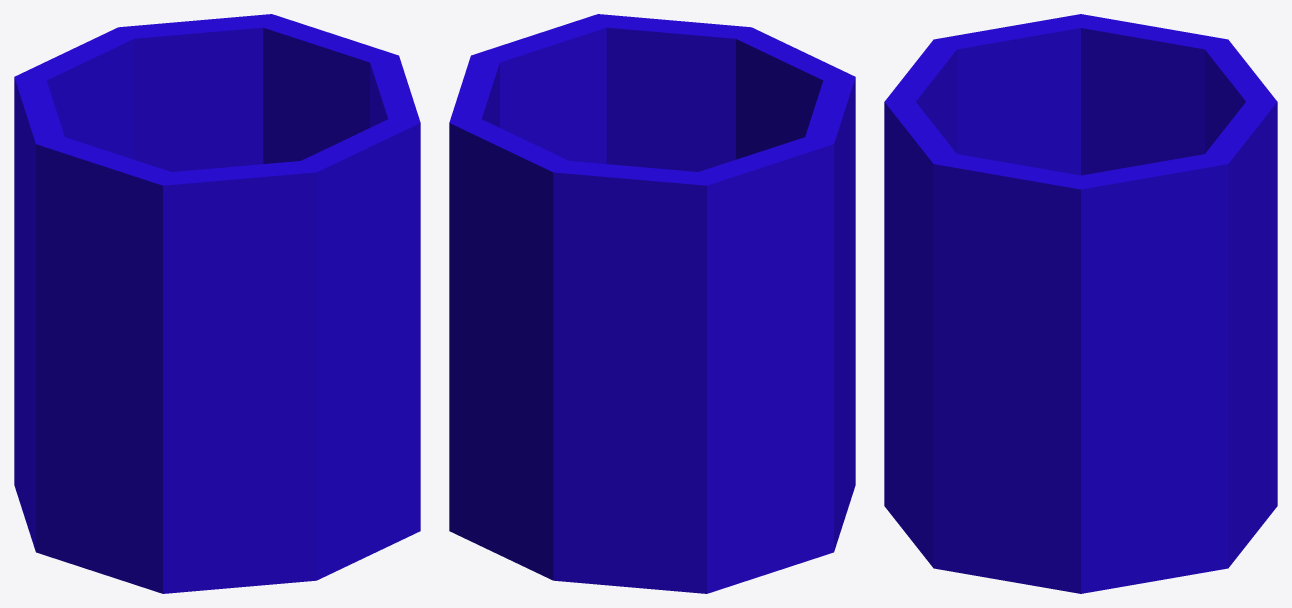
Rendered from papelera jardin .fbx.
The picture shows the model from 3 angles, left to right: view 1: azimuth 30°, elevation 25°; view 2: azimuth 150°, elevation 25°; view 3: azimuth 270°, elevation 25°; orthographic projection.
Visible parts, largest first — view 1: Cube; view 2: Cube; view 3: Cube.
Part boxes in pixels (left/top/right/bottom): Cube: left=14, top=14, right=420, bottom=593; Cube: left=449, top=14, right=855, bottom=593; Cube: left=884, top=14, right=1277, bottom=593.
Size of the model in its own units: 282 by 303 by 267.
